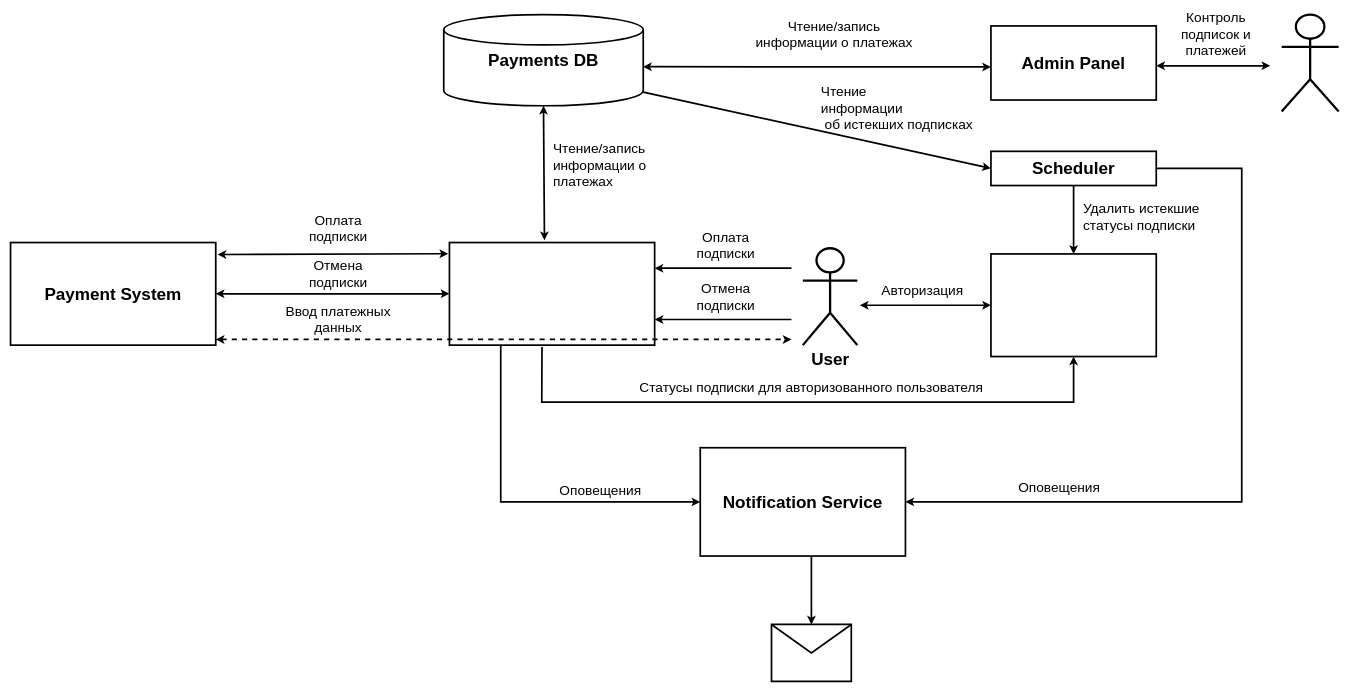
Some shapes in this 1355 by 692 pixel diagram are drawn without their labels. Here are the shapes that lost their labels. From the top down, the centre of each, then its label:
At [1309,62]: "Manager".
At [551,293]: "Billing API".
At [1073,305]: "Auth Service".
